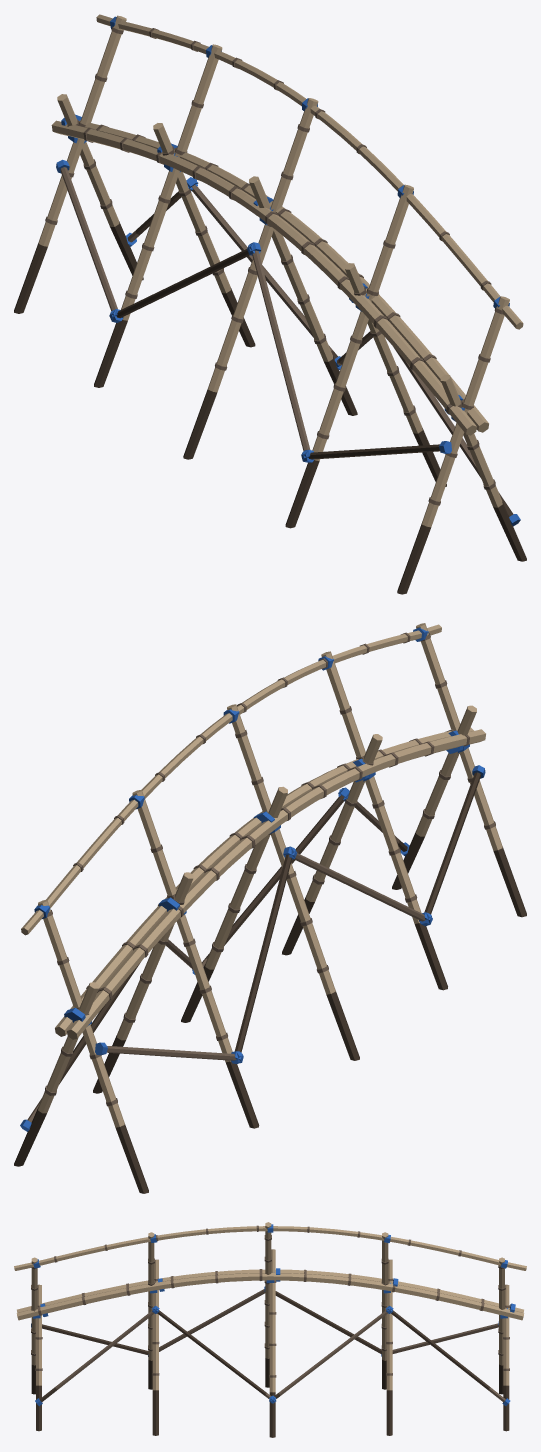
The model's file is monkey_bridge.glb.
3 renders of one model, top to bottom at view 1: azimuth 30°, elevation 25°; view 2: azimuth 150°, elevation 25°; view 3: azimuth 270°, elevation 25°, orthographic. The views are drawn at different scales.
Visible parts, largest first — view 1: trestles-bright-boat-colours, walkway-bright-boat-colours, trestles-muddy-brown, braces-muddy-brown-light, handrail-bright-boat-colours, braces-muddy-brown, trestles-muddy-brown-light, lashings-sky-blue, walkway-muddy-brown-light; view 2: trestles-bright-boat-colours, walkway-bright-boat-colours, trestles-muddy-brown, braces-muddy-brown, handrail-bright-boat-colours, braces-muddy-brown-light, lashings-sky-blue, trestles-muddy-brown-light, walkway-muddy-brown-light; view 3: trestles-bright-boat-colours, walkway-bright-boat-colours, handrail-bright-boat-colours, braces-muddy-brown, braces-muddy-brown-light, trestles-muddy-brown, lashings-sky-blue, trestles-muddy-brown-light, walkway-muddy-brown-light.
Boxes of the visible parts, x1=… form: trestles-bright-boat-colours: x1=38, y1=15, x2=509, y2=527; walkway-bright-boat-colours: x1=51, y1=120, x2=488, y2=435; trestles-muddy-brown: x1=14, y1=221, x2=526, y2=594; braces-muddy-brown-light: x1=60, y1=167, x2=480, y2=477; handrail-bright-boat-colours: x1=96, y1=14, x2=523, y2=329; braces-muddy-brown: x1=117, y1=191, x2=513, y2=516; trestles-muddy-brown-light: x1=45, y1=27, x2=503, y2=505; lashings-sky-blue: x1=56, y1=16, x2=520, y2=526; walkway-muddy-brown-light: x1=83, y1=124, x2=464, y2=414; trestles-bright-boat-colours: x1=38, y1=623, x2=502, y2=1127; walkway-bright-boat-colours: x1=55, y1=727, x2=485, y2=1039; trestles-muddy-brown: x1=14, y1=831, x2=526, y2=1193; braces-muddy-brown: x1=59, y1=772, x2=480, y2=1084; handrail-bright-boat-colours: x1=21, y1=624, x2=441, y2=935; braces-muddy-brown-light: x1=27, y1=801, x2=425, y2=1122; lashings-sky-blue: x1=20, y1=627, x2=485, y2=1131; trestles-muddy-brown-light: x1=44, y1=633, x2=495, y2=1106; walkway-muddy-brown-light: x1=86, y1=729, x2=469, y2=999; trestles-bright-boat-colours: x1=31, y1=1222, x2=509, y2=1392; walkway-bright-boat-colours: x1=16, y1=1269, x2=524, y2=1320; handrail-bright-boat-colours: x1=14, y1=1226, x2=526, y2=1270; braces-muddy-brown: x1=39, y1=1291, x2=489, y2=1401; braces-muddy-brown-light: x1=55, y1=1289, x2=505, y2=1402; trestles-muddy-brown: x1=31, y1=1358, x2=509, y2=1437; lashings-sky-blue: x1=31, y1=1224, x2=515, y2=1406; trestles-muddy-brown-light: x1=31, y1=1235, x2=509, y2=1377; walkway-muddy-brown-light: x1=37, y1=1269, x2=484, y2=1315.
Bounding box in the file's own units: 1.98 × 3.5 × 8.12.
